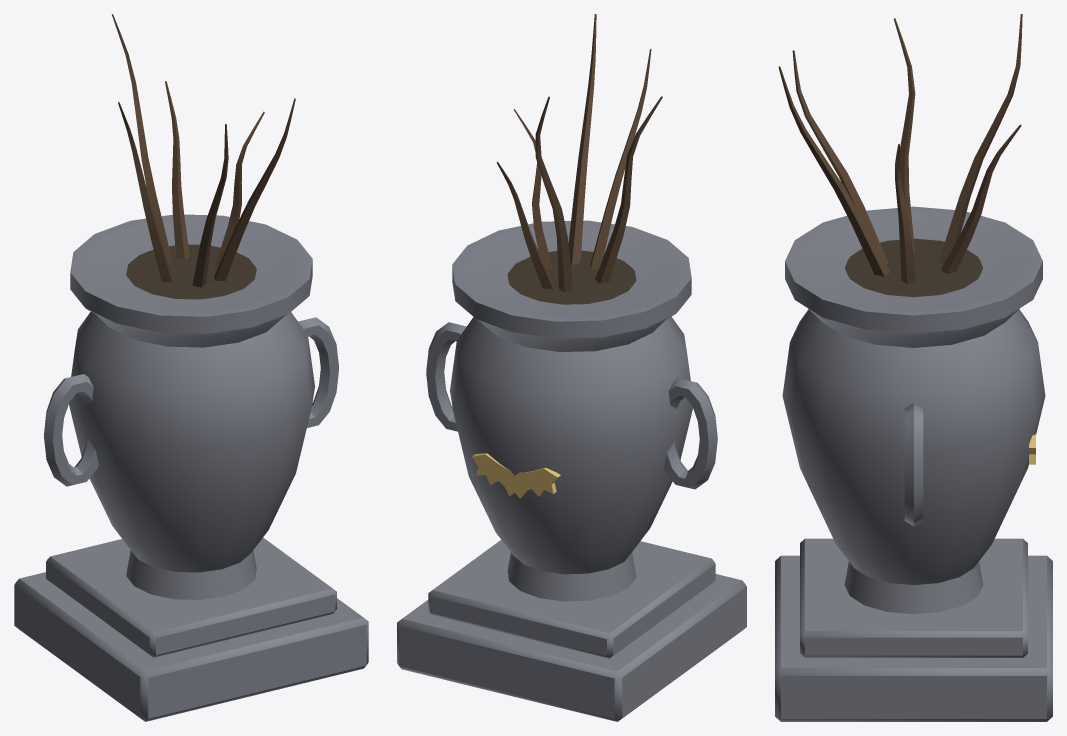
Rendered from gu_urna.fbx.
3 renders of one model, left to right at view 1: azimuth 30°, elevation 25°; view 2: azimuth 150°, elevation 25°; view 3: azimuth 270°, elevation 25°, orthographic. The views are drawn at different scales.
Parts seen in each view (by area): view 1: gu_urna_basalto, gu_urna_legno, gu_urna_terra; view 2: gu_urna_basalto, gu_urna_legno, gu_urna_terra, gu_urna_ottone; view 3: gu_urna_basalto, gu_urna_legno, gu_urna_terra.
Part boxes in pixels (box(x1,y1,x2,y2)): gu_urna_basalto: box(14, 214, 368, 721); gu_urna_legno: box(111, 14, 295, 287); gu_urna_terra: box(126, 244, 256, 299); gu_urna_basalto: box(397, 220, 746, 721); gu_urna_legno: box(496, 14, 662, 292); gu_urna_terra: box(507, 250, 636, 304); gu_urna_ottone: box(472, 453, 560, 498); gu_urna_basalto: box(775, 206, 1052, 721); gu_urna_legno: box(778, 14, 1022, 284); gu_urna_terra: box(845, 238, 982, 297).
Size of the model in its own units: 0.724 by 1.42 by 0.56.
